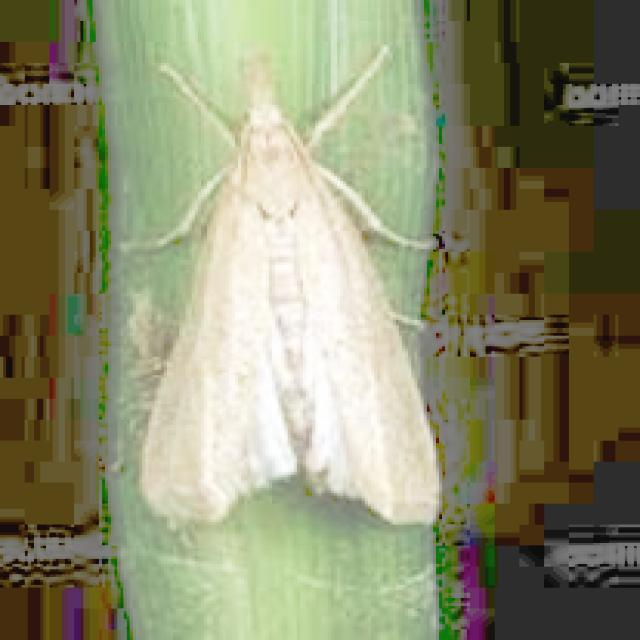stem-borer: (136, 46, 418, 532)
